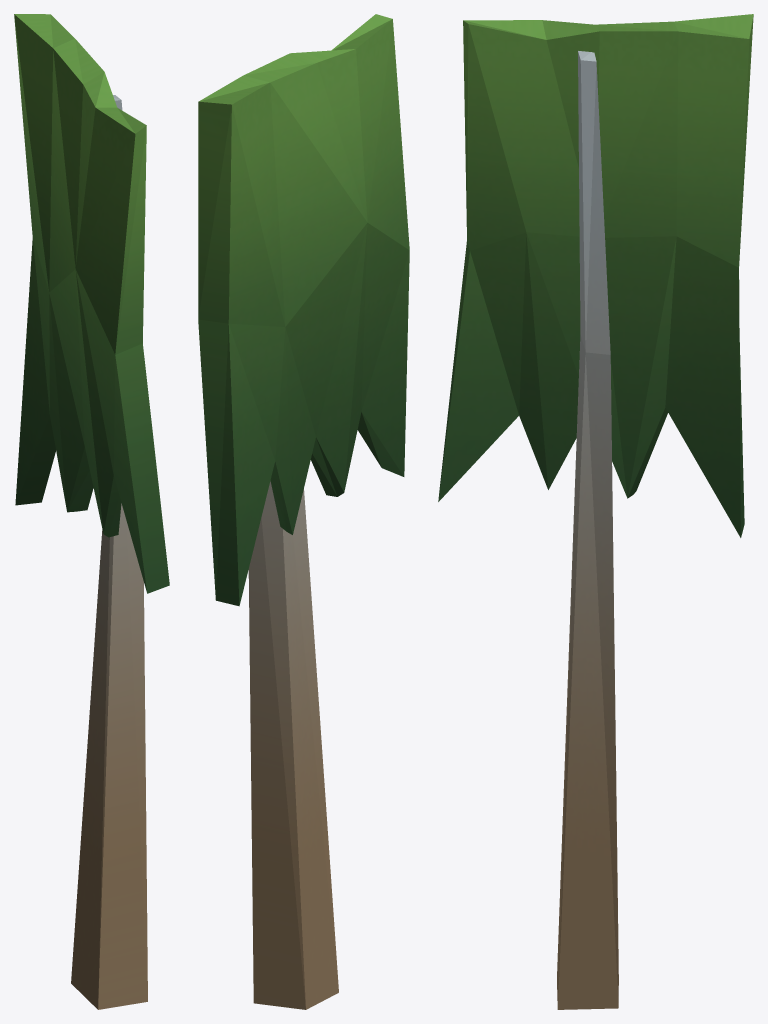
File: greenTowerFlag_mdl.FBX
3 renders of one model, left to right at view 1: azimuth 30°, elevation 25°; view 2: azimuth 150°, elevation 25°; view 3: azimuth 270°, elevation 25°, orthographic. The views are drawn at different scales.
Visible parts, largest first — view 1: greenTowerFlag_mdl; view 2: greenTowerFlag_mdl; view 3: greenTowerFlag_mdl.
Part boxes in pixels (box(x1,y1,x2,y2)): greenTowerFlag_mdl: box(14, 14, 169, 1009); greenTowerFlag_mdl: box(198, 14, 409, 1009); greenTowerFlag_mdl: box(438, 14, 753, 1009).
Bounding box in the file's own units: 3.68 × 36.39 × 10.67.
1 material, 1 textured.
